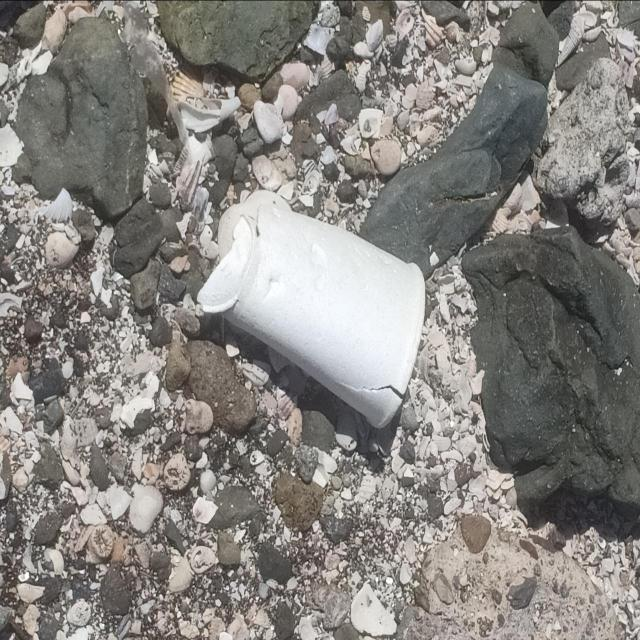styrofoam_waste: (198, 200, 428, 431)
